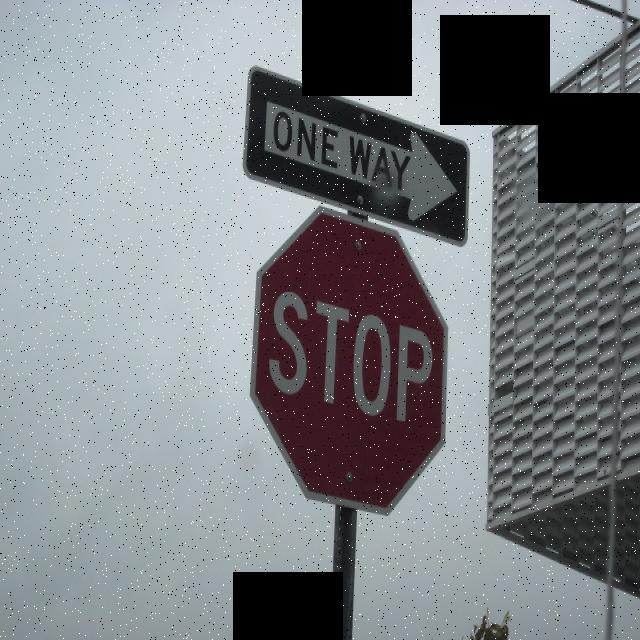regulatory: (234, 60, 475, 248)
stop: (252, 205, 452, 528)
